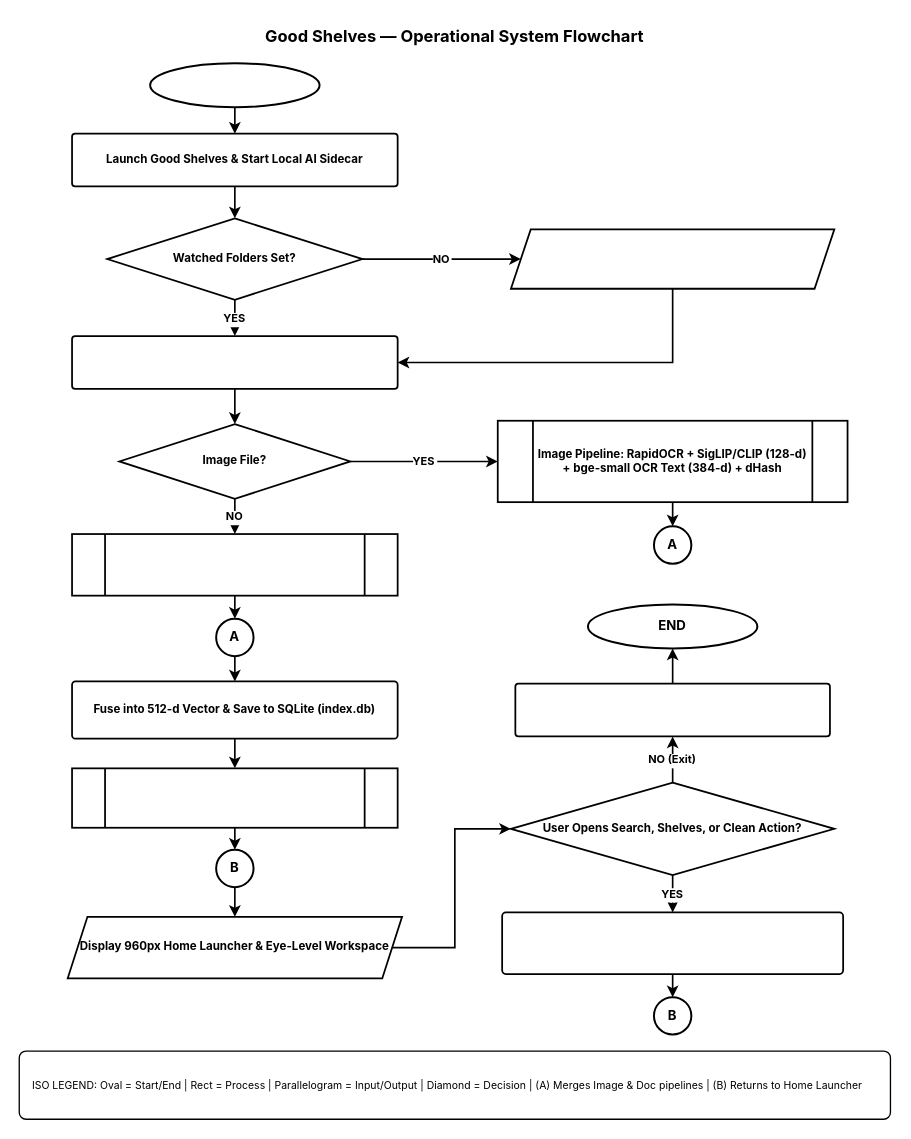
Image size: 911x1139. Some labels were removed from this diagram. The shapes that lost their labels are listed below. From the top down, each one's box as (x1, y1, x2, y2) in pixels, then its label:
(149, 62, 320, 108): START
(510, 228, 835, 289): Select Folders (Documents, Downloads, Desktop)
(71, 335, 398, 389): Scan & Detect Changes (SHA-256 + mtime)
(71, 533, 398, 596): Document/Code Pipeline: Format Parser + bge-small (384-d)
(514, 682, 830, 737): Flush SQLite Index & Stop Local Sidecar
(71, 767, 398, 828): Auto-Group Topic Shelves (UMAP + HDBSCAN) & Flag Duplicates
(501, 911, 843, 974): Execute Hybrid Search, Ask AI, or Safe Cleanup + Log Undo
